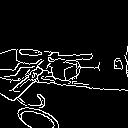cube: (46, 58, 82, 85)
